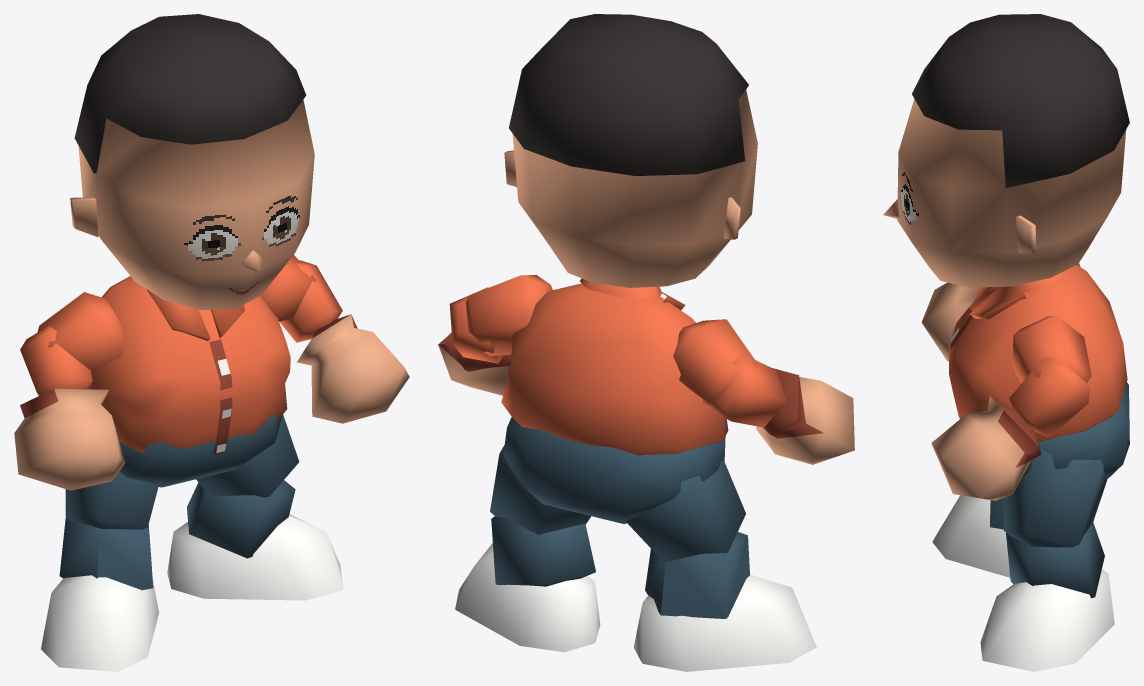
3 renders of one model, left to right at view 1: azimuth 30°, elevation 25°; view 2: azimuth 150°, elevation 25°; view 3: azimuth 270°, elevation 25°, orthographic. The views are drawn at different scales.
Parts seen in each view (by area): view 1: Character; view 2: Character; view 3: Character.
Boxes of the visible parts, <box> form: Character: <box>14,14,409,671</box>; Character: <box>438,14,854,671</box>; Character: <box>883,14,1129,671</box>.
Bounding box in the file's own units: 1.98 × 2.78 × 1.09.
Materials: 11 (2 with a texture image).
